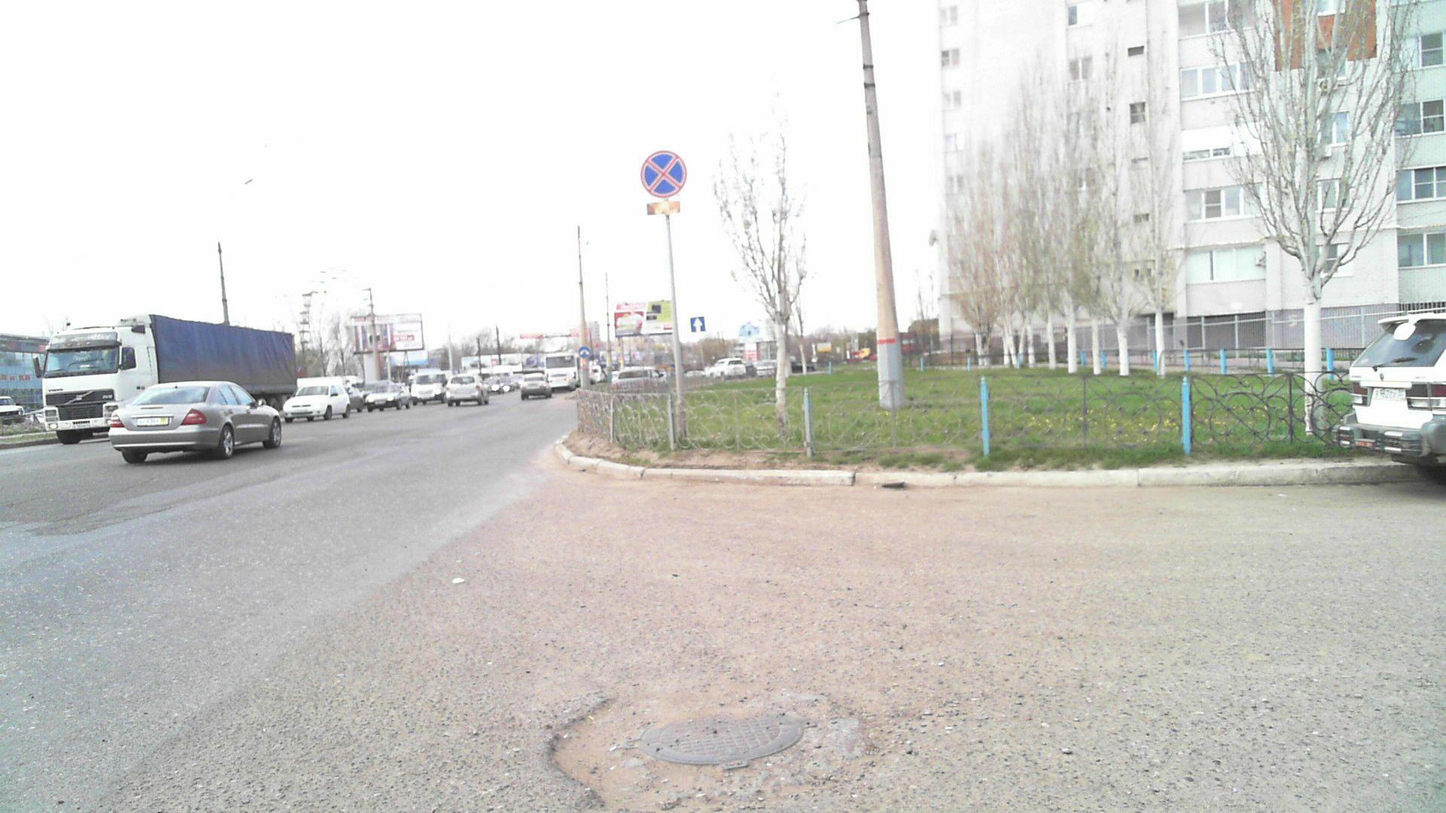pothole: (549, 696, 667, 813)
road_sign: (640, 150, 687, 199), (690, 316, 706, 332)
